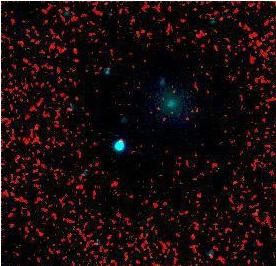star: (150, 83, 180, 113)
